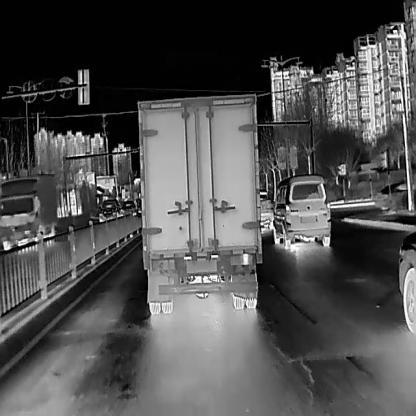car: (135, 91, 263, 314), (0, 170, 57, 250), (272, 174, 331, 249), (375, 181, 416, 210), (258, 187, 275, 228), (97, 197, 123, 222), (121, 199, 136, 215)
